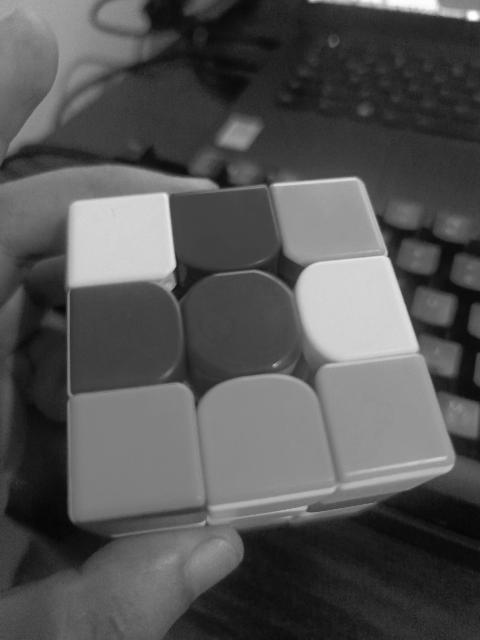rubik: (62, 175, 456, 537)
